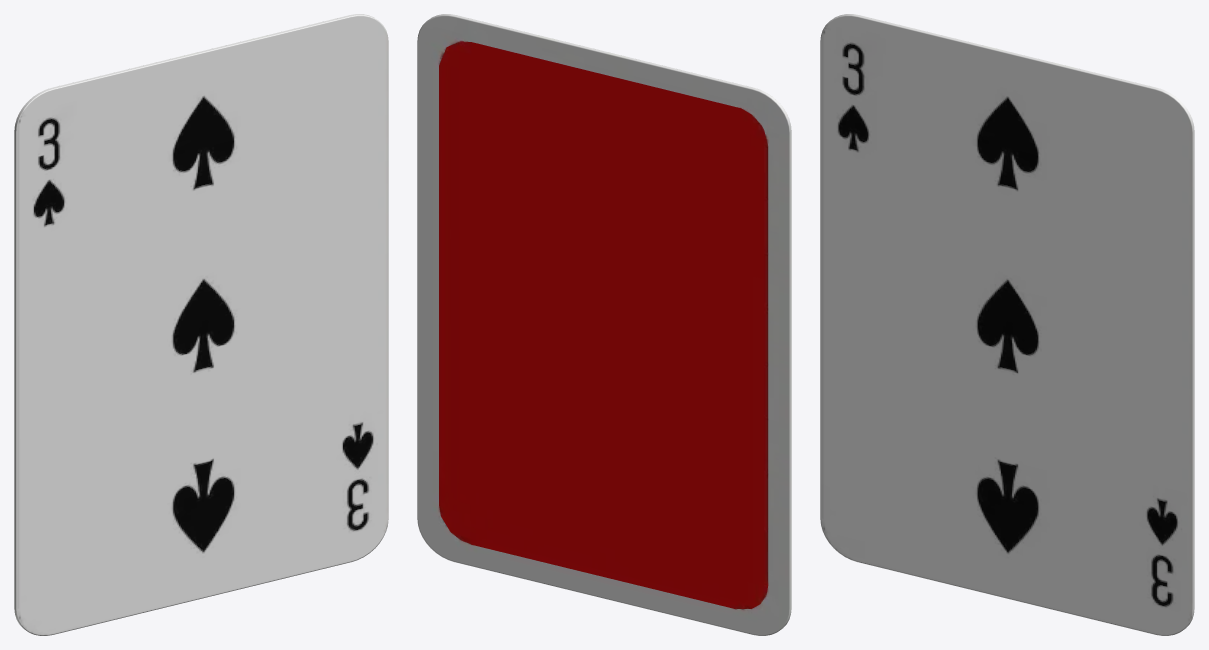
The model's file is spades_3-transformed.glb.
3 renders of one model, left to right at view 1: azimuth 30°, elevation 25°; view 2: azimuth 150°, elevation 25°; view 3: azimuth 330°, elevation 25°, orthographic.
Parts seen in each view (by area): view 1: defaultMaterial.009; view 2: defaultMaterial.009; view 3: defaultMaterial.009.
Part boxes in pixels (<box>): defaultMaterial.009: <box>14,14,388,635</box>; defaultMaterial.009: <box>417,14,791,635</box>; defaultMaterial.009: <box>820,14,1194,635</box>.
Bounding box in the file's own units: 0.1408 × 0.1972 × 0.00111.
Materials: 1 (1 with a texture image).
